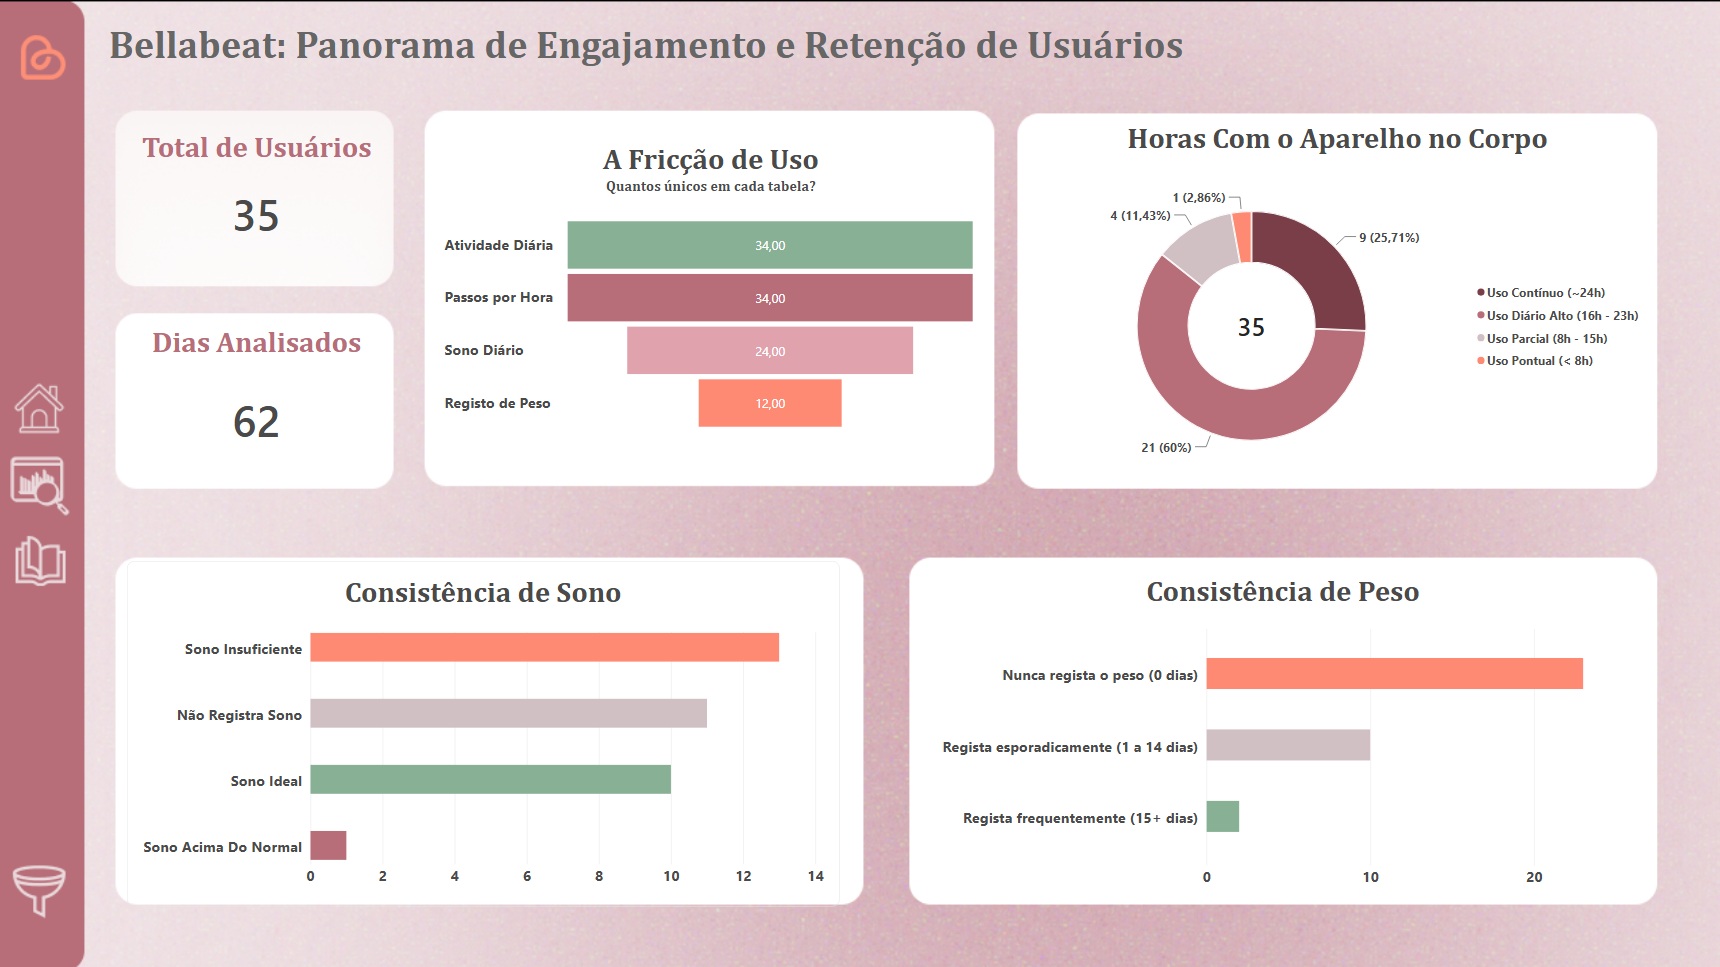

The dashboard page shown, as its layout file describes it:
{"tool":"powerbi","page":{"name":"Perfil de Uso","canvas":[1920,1080],"ordinal":1},"visuals":[{"type":"image","title":"Fundo Nav","box":[0,0,1920,1080],"z":0,"group":"g1"},{"type":"group","id":"g1","title":"Perfil de Uso Navegação","box":[0,0,1920,1080],"z":1000},{"type":"textbox","title":"Txt Título","box":[384,32,1280,96],"z":1000,"group":"g1"},{"type":"cardVisual","title":"Total de Usuários","fields":{"Data":["CountNonNull(dim_users.USER_ID)"]},"box":[384,128,224,192],"z":2000,"group":"g1"},{"type":"cardVisual","title":"Dias Analisados","fields":{"Data":["Count(dim_calendar.FULL_DATE)"]},"box":[384,352,224,192],"z":3000,"group":"g1"},{"type":"pageNavigator","title":"Navegador Home","box":[5,415,70,70],"z":3000},{"type":"funnel","title":"A Fricção de Uso","fields":{"Category":["vw_funil_friccao.ETAPA_DO_FUNIL"],"Y":["Sum(vw_funil_friccao.TOTAL_UTILIZADORES)"]},"box":[672,128,512,384],"z":4000,"group":"g1"},{"type":"pageNavigator","title":"Navegador Sobre","box":[5,590,70,70],"z":4000},{"type":"pageNavigator","title":"Navegador Home Logo","box":[0,33,90,64],"z":5000},{"type":"donutChart","title":"Horas Com o Aparelho no Corpo","fields":{"Category":["vw_dim_perfil_engajamento.PADRAO_DE_USO"],"Y":["CountNonNull(vw_dim_perfil_engajamento.USER_ID)"]},"box":[1248,128,576,416],"z":5000,"group":"g1"},{"type":"actionButton","title":"Botão Fechar","box":[288,25,53,55],"z":6000},{"type":"barChart","title":"Consistência de Sono","fields":{"Category":["vw_dim_perfil_sono.PERFIL_DE_SONO"],"Y":["CountNonNull(vw_dim_perfil_sono.USER_ID)"]},"box":[384,640,672,384],"z":6000,"group":"g1"},{"type":"barChart","title":"Consistência de Peso","fields":{"Category":["vw_dim_perfil_peso.PERFIL_DE_PESO"],"Y":["CountNonNull(vw_dim_perfil_peso.USER_ID)"]},"box":[1152,640,672,384],"z":7000,"group":"g1"},{"type":"actionButton","title":"Botão Filtros","box":[0,940,96,96],"z":7000},{"type":"pageNavigator","box":[128,384,192,336],"z":8000,"group":"g1"},{"type":"actionButton","title":"Botão Navegação ","box":[0,500,85,70],"z":8000}]}

Visuals, with their boxes on the page's 1920x1080 design canvas (x1, y1, x2, y2). These are canvas units, not pixel positions in the 1720x967 screenshot, which may show the page scaled, cropped or inside an application window:
"Fundo Nav" image: (left=0, top=0, right=1920, bottom=1080)
"Perfil de Uso Navegação" group: (left=0, top=0, right=1920, bottom=1080)
"Txt Título" textbox: (left=384, top=32, right=1664, bottom=128)
"Total de Usuários" cardVisual: (left=384, top=128, right=608, bottom=320)
"Dias Analisados" cardVisual: (left=384, top=352, right=608, bottom=544)
"Navegador Home" pageNavigator: (left=5, top=415, right=75, bottom=485)
"A Fricção de Uso" funnel: (left=672, top=128, right=1184, bottom=512)
"Navegador Sobre" pageNavigator: (left=5, top=590, right=75, bottom=660)
"Navegador Home Logo" pageNavigator: (left=0, top=33, right=90, bottom=97)
"Horas Com o Aparelho no Corpo" donutChart: (left=1248, top=128, right=1824, bottom=544)
"Botão Fechar" actionButton: (left=288, top=25, right=341, bottom=80)
"Consistência de Sono" barChart: (left=384, top=640, right=1056, bottom=1024)
"Consistência de Peso" barChart: (left=1152, top=640, right=1824, bottom=1024)
"Botão Filtros" actionButton: (left=0, top=940, right=96, bottom=1036)
pageNavigator: (left=128, top=384, right=320, bottom=720)
"Botão Navegação " actionButton: (left=0, top=500, right=85, bottom=570)
